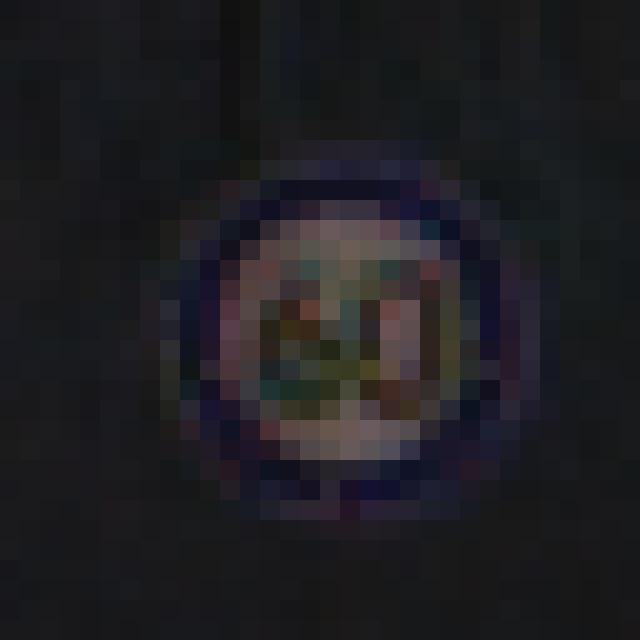SPEED-LIMIT-60: (162, 146, 522, 537)
